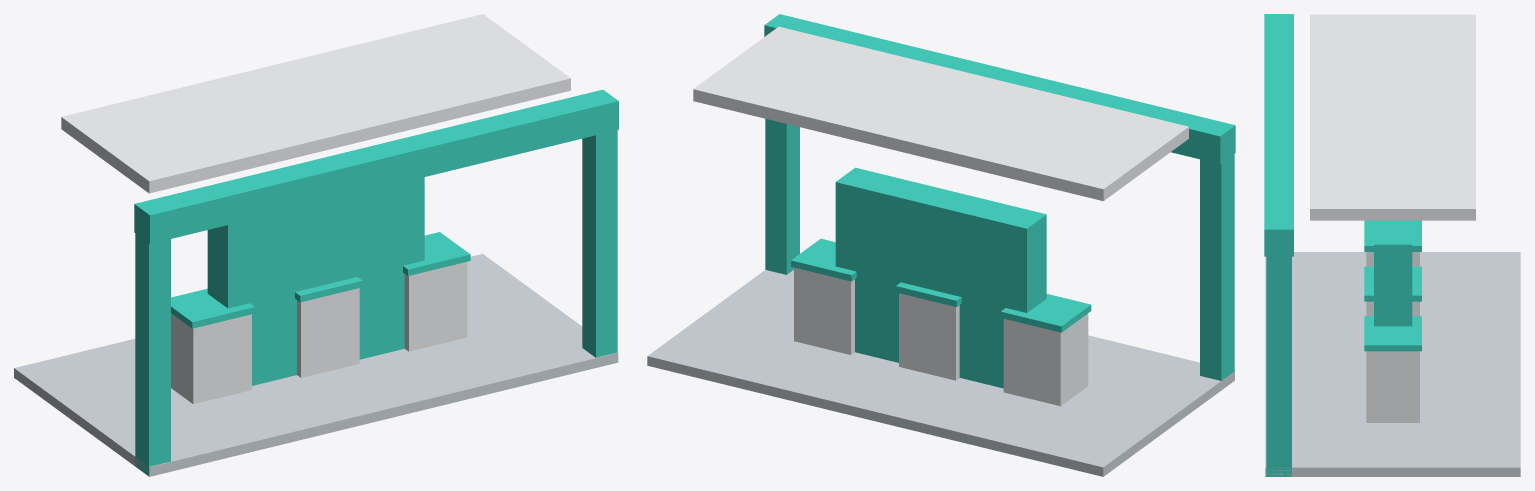
3 renders of one model, left to right at view 1: azimuth 30°, elevation 25°; view 2: azimuth 150°, elevation 25°; view 3: azimuth 270°, elevation 25°, orthographic. The views are drawn at different scales.
Parts seen in each view (by area): view 1: Exhibition Booth Concept; view 2: Exhibition Booth Concept; view 3: Exhibition Booth Concept.
Part boxes in pixels (x1,y1,x2,y2): Exhibition Booth Concept: (14,14,618,476); Exhibition Booth Concept: (647,14,1235,476); Exhibition Booth Concept: (1264,14,1520,476).
Bounding box in the file's own units: 6 × 3.34 × 3.01.
